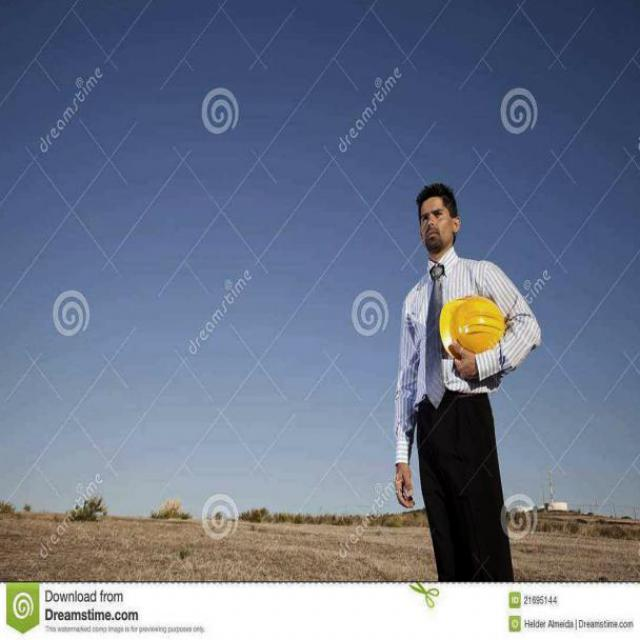vest: (431, 279, 512, 376)
